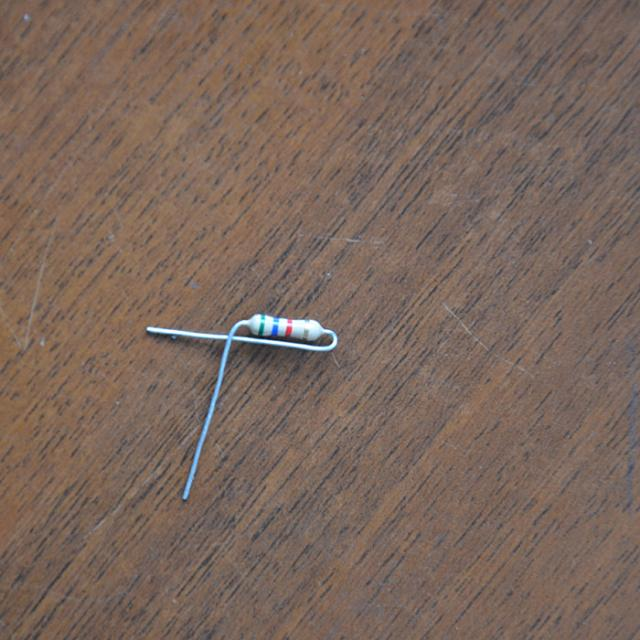blue: (273, 317, 279, 335)
gold: (304, 321, 309, 337)
green: (260, 314, 264, 334)
red: (286, 320, 292, 335)
resistor: (249, 307, 327, 348)
